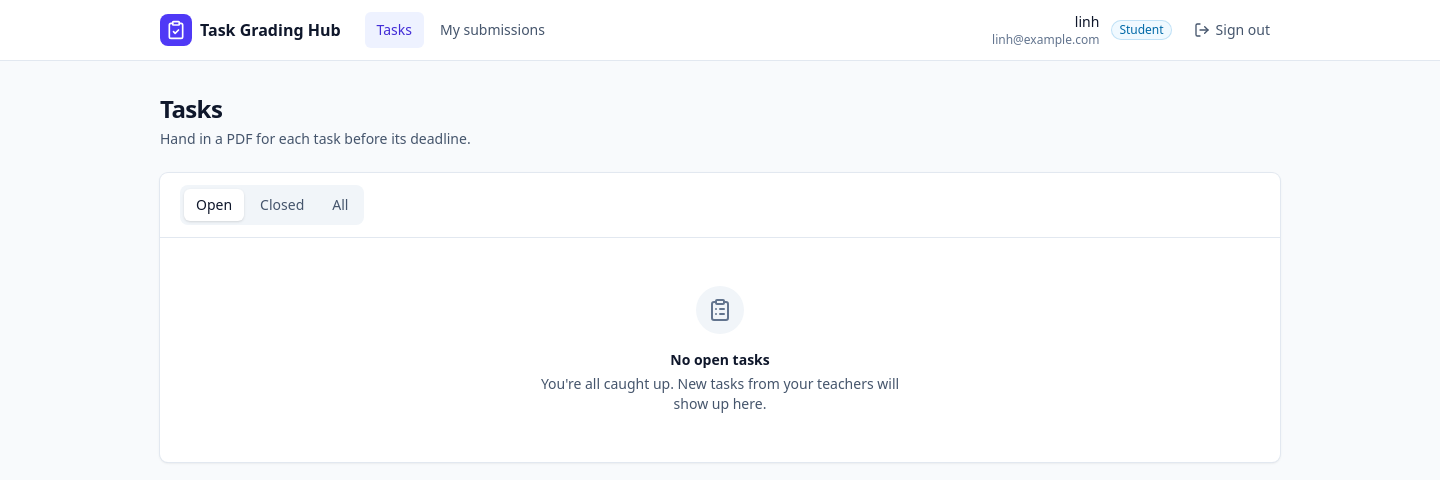
Test: task list › lists closed tasks, newest first, and flags missed ones
The width and height of the screenshot is (1440, 480).
What coordinates should you click on to do the following:
click the button "Closed"
I would click on:
 (282, 205)
Its box is [248, 189, 316, 221].
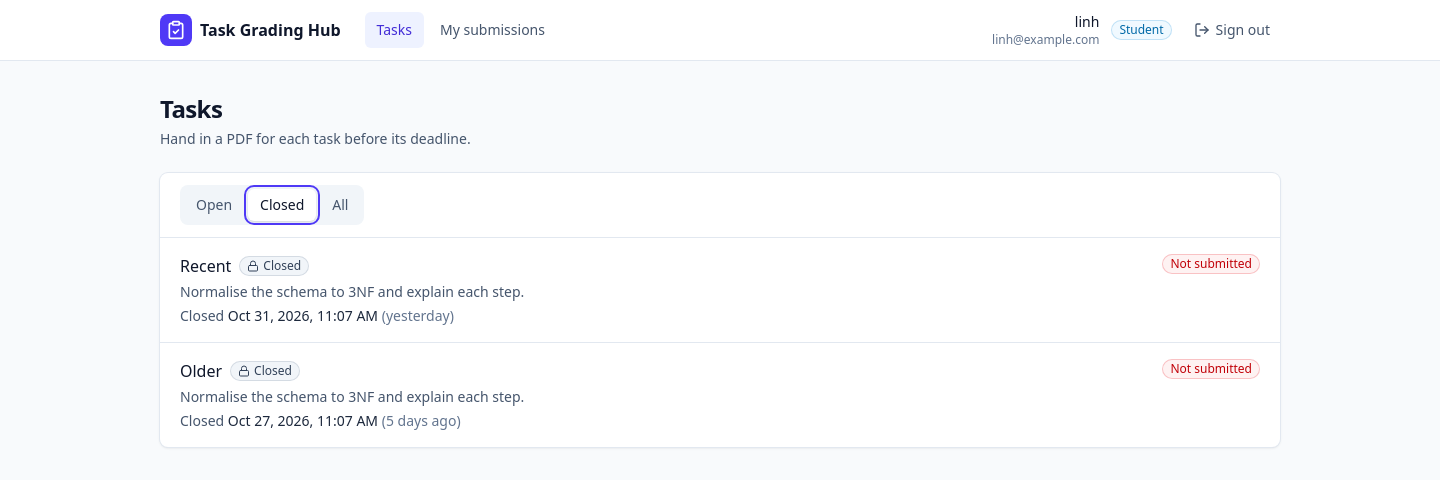
Check: the text "Not submitted" in the row of "Recent" is shown, box [1170, 255, 1252, 272]
